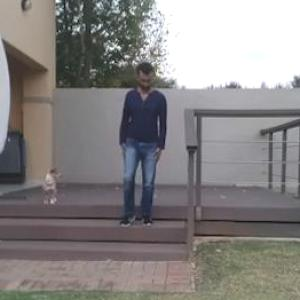follow: (122, 56, 168, 238)
